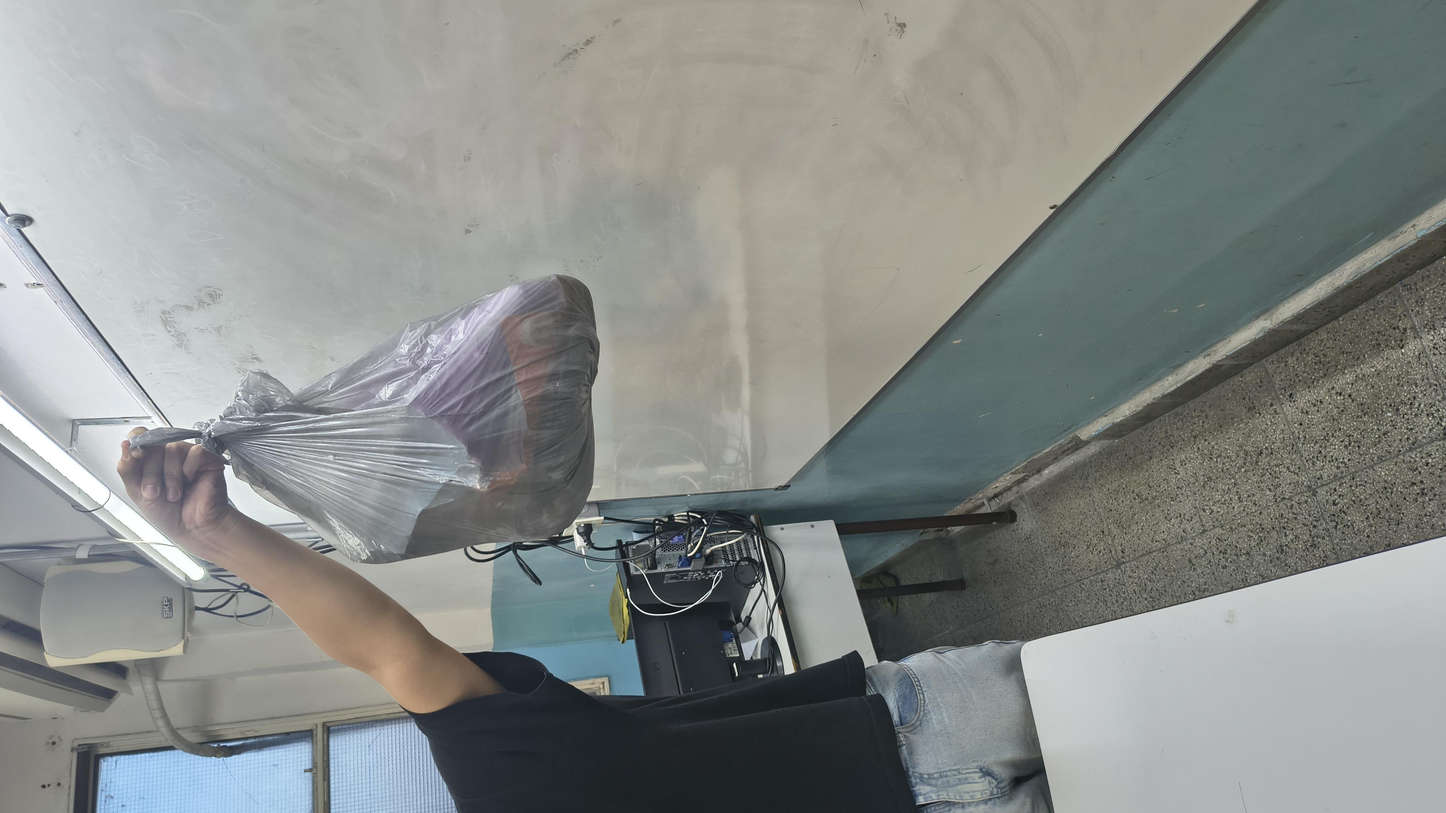Garbage: (433, 93, 1042, 349)
